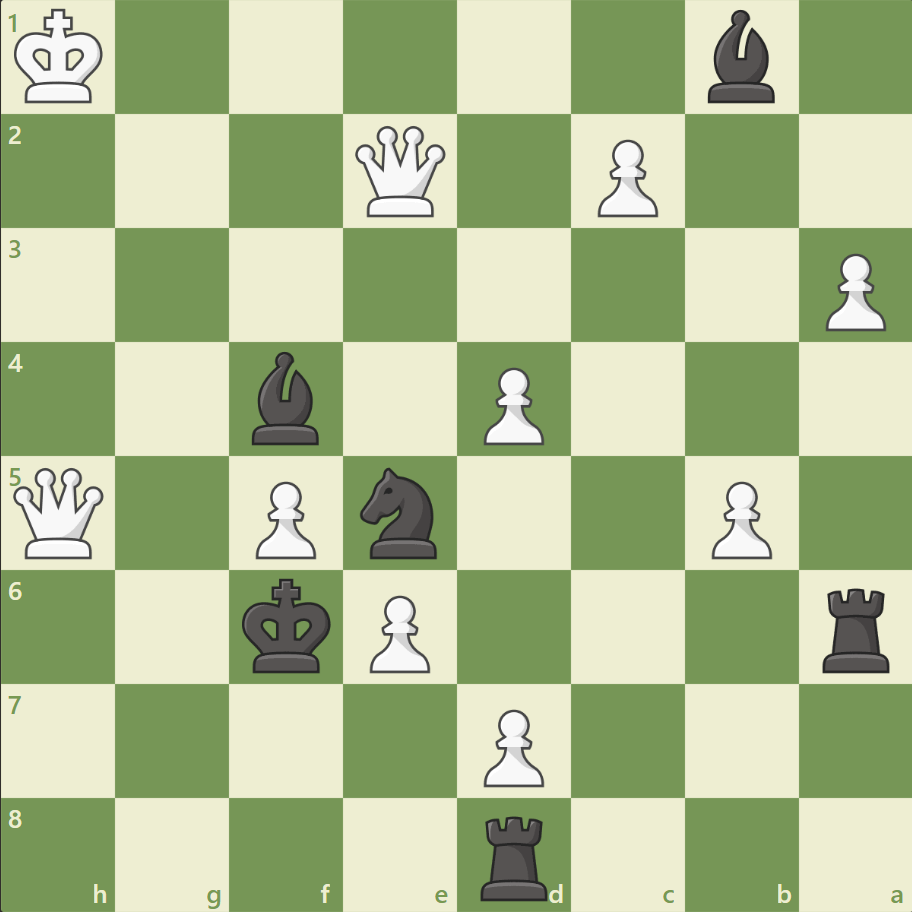K: (11, 4, 111, 112)
P: (474, 700, 549, 791), (701, 473, 776, 564), (247, 473, 322, 564), (474, 359, 549, 450), (361, 586, 435, 677), (815, 246, 889, 337), (588, 132, 662, 223)
Q: (351, 122, 450, 222), (10, 463, 109, 562)
b: (698, 6, 782, 109), (244, 347, 328, 449)
k: (238, 571, 338, 679)
n: (351, 461, 449, 564)
r: (473, 806, 556, 904), (814, 579, 897, 676)
